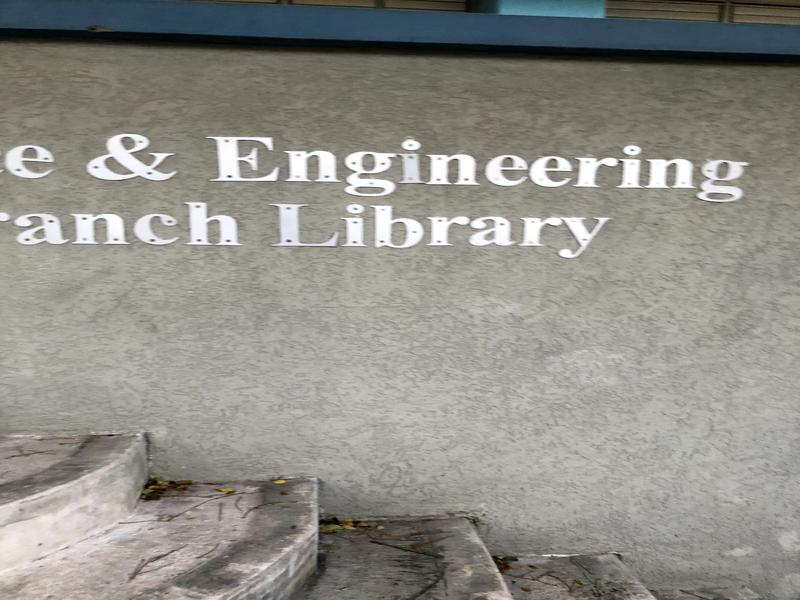18.0053644_-76.7493880_librarysign: (1, 135, 750, 286)
